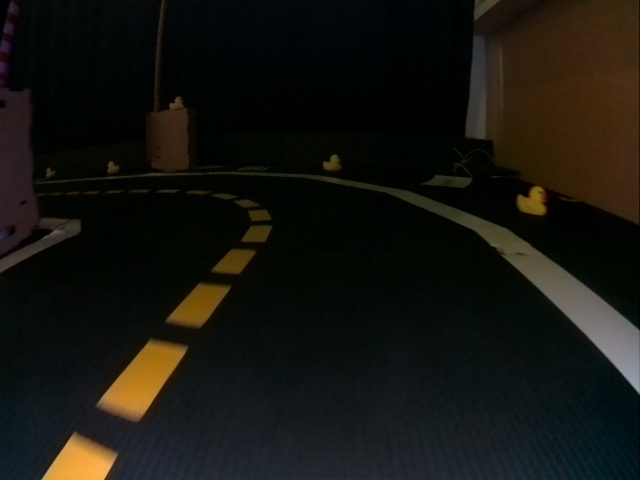Duckie: (517, 186, 547, 215), (323, 154, 341, 170), (170, 97, 183, 109), (107, 161, 118, 173), (46, 167, 55, 176)
